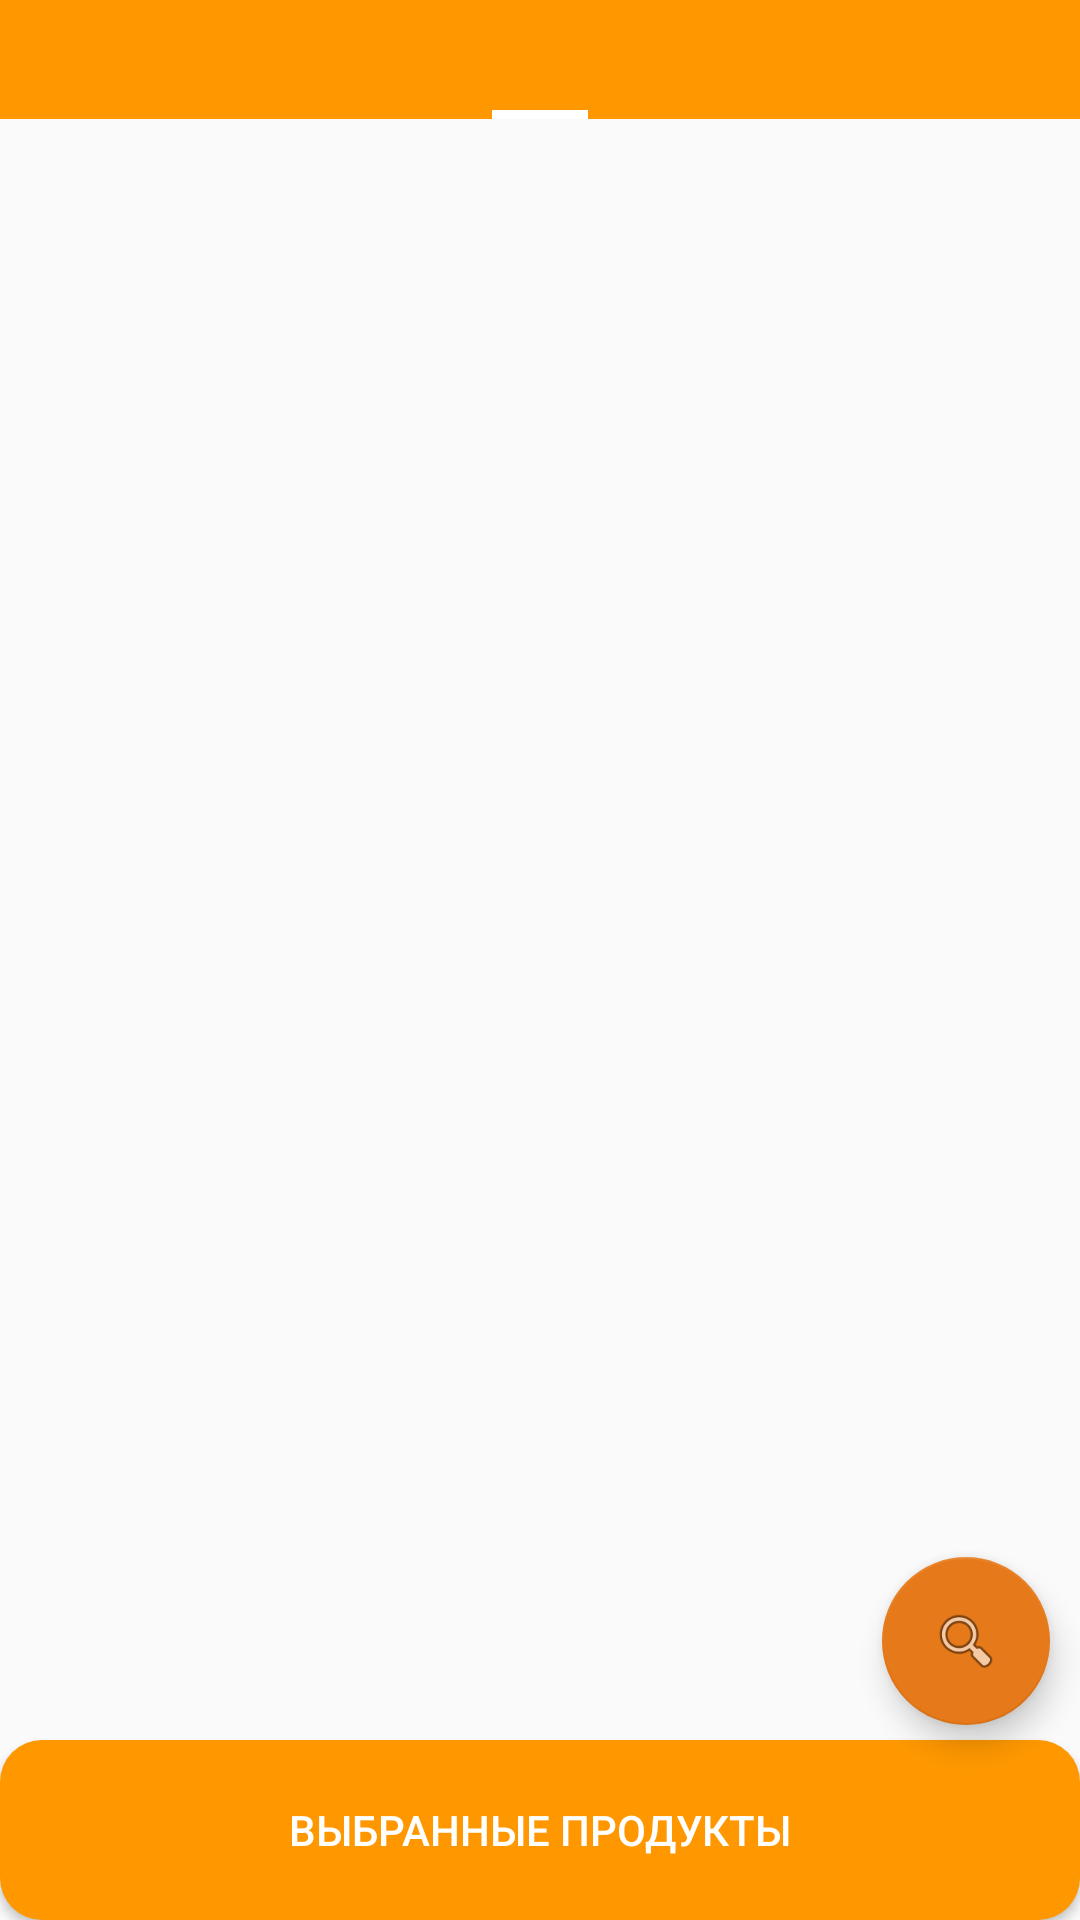

Screen size 1080 x 1920. Icon name, then its center in pixels as [x,y]:
search: [966,1641]
